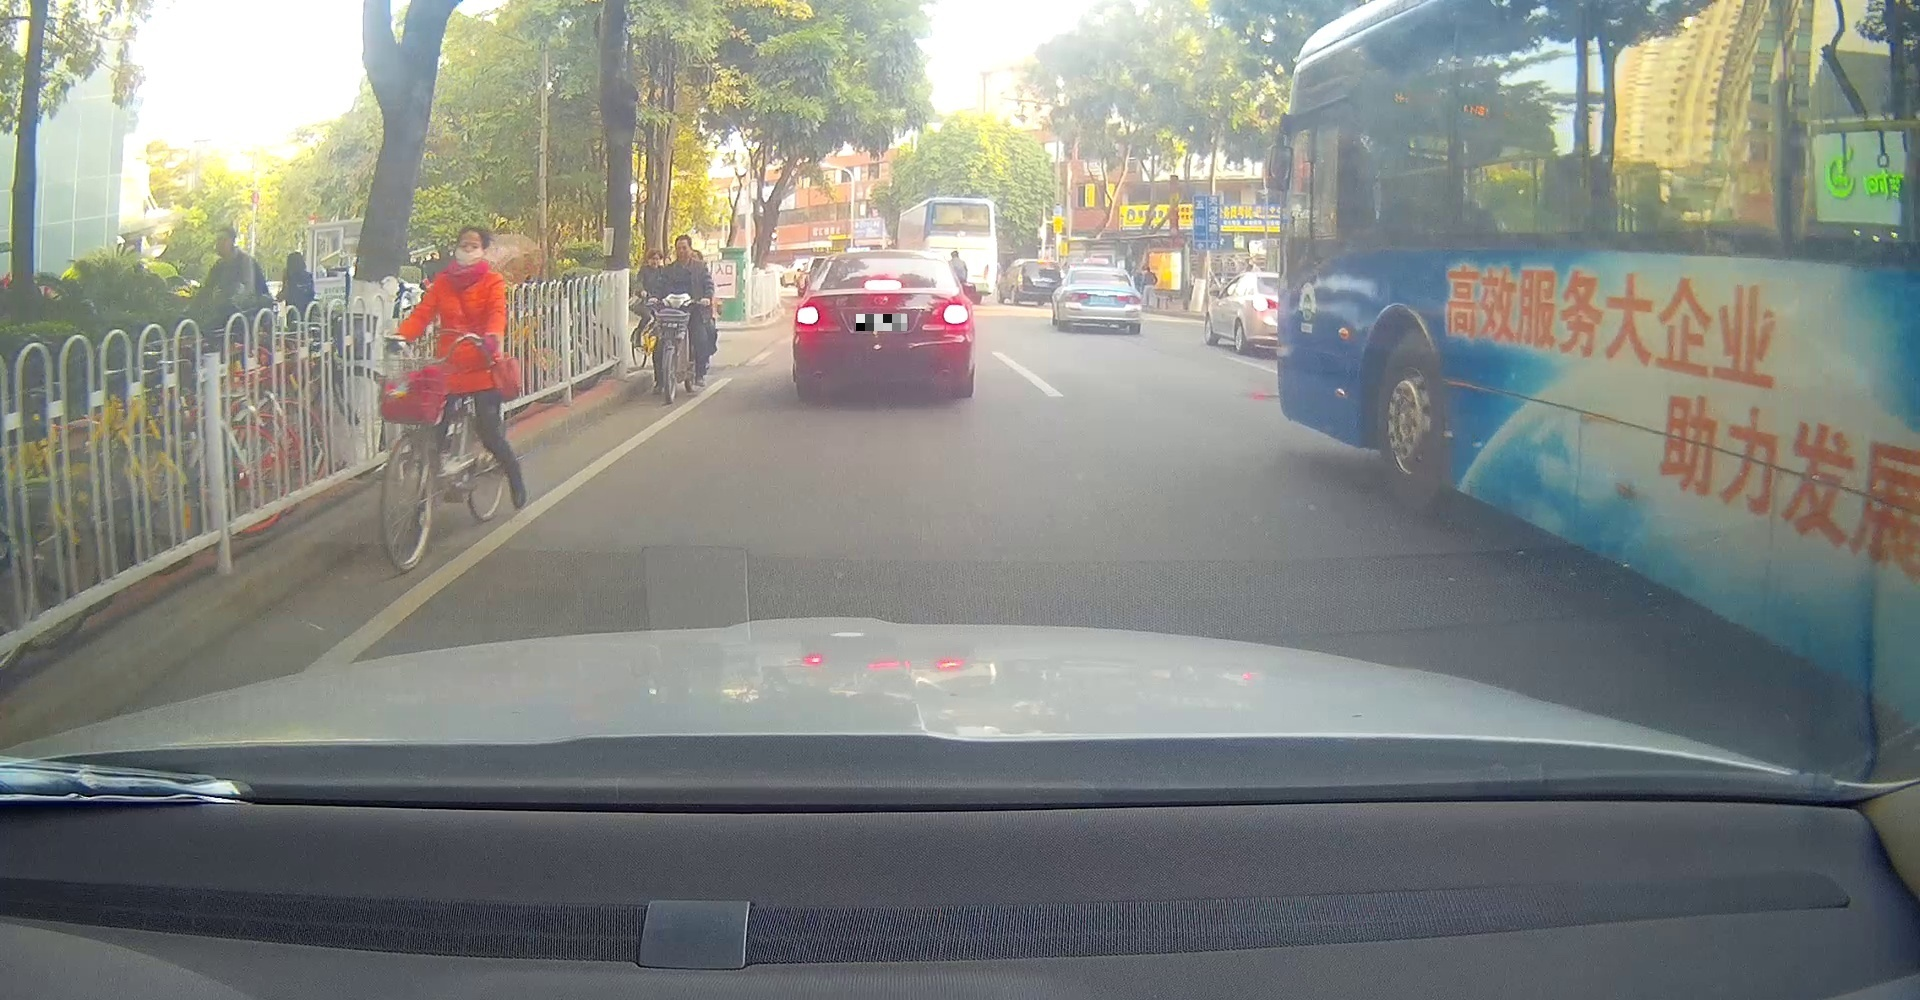L_light: (795, 305, 819, 324), (1065, 292, 1088, 302)
R_light: (942, 305, 969, 325), (1117, 294, 1140, 305)
T_light: (863, 280, 902, 291), (1095, 272, 1107, 275)
day-brake: (792, 250, 971, 397)
day-no: (1062, 266, 1142, 335)
plate_1: (856, 313, 907, 331)
